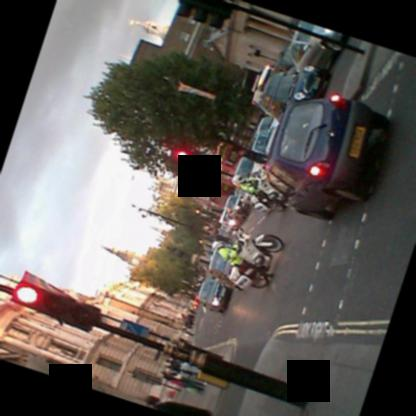handbag: (239, 261, 254, 275), (185, 386, 200, 394), (180, 368, 193, 375)
